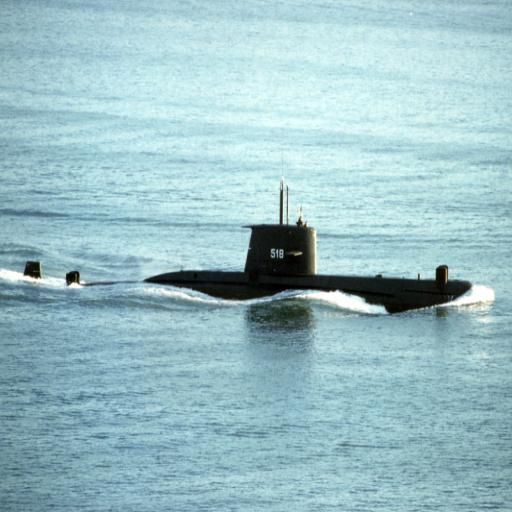submarine: (23, 224, 473, 312)
